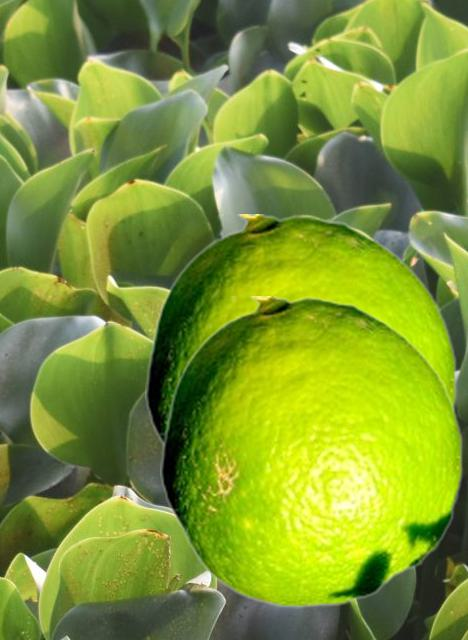dalandan: (160, 296, 462, 607), (145, 214, 456, 449)
